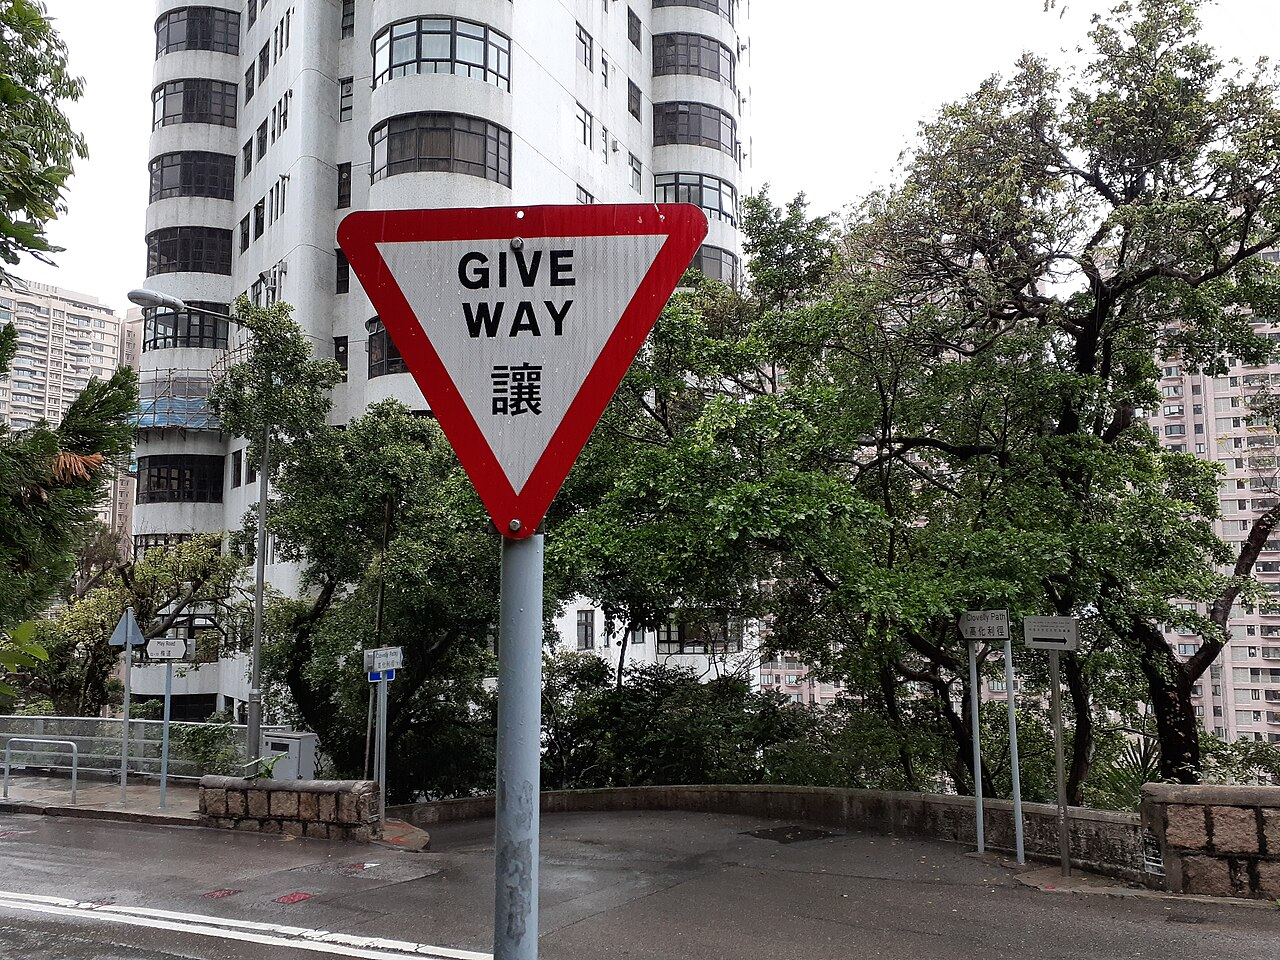Give Way: (329, 198, 700, 545)
